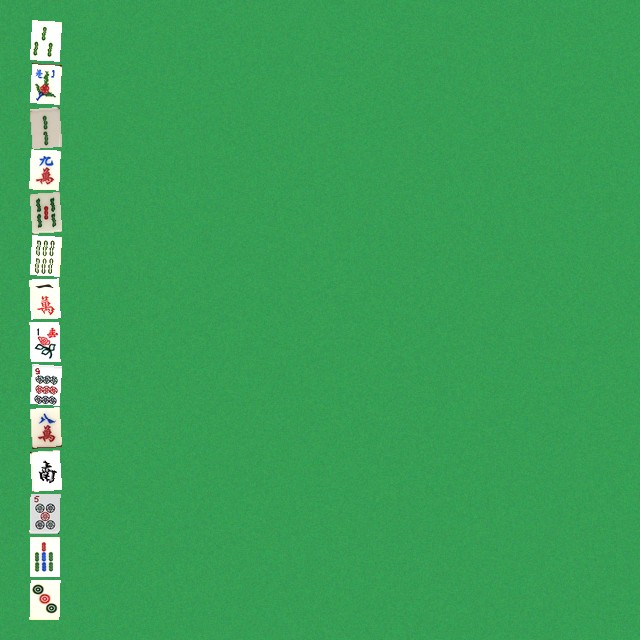tile: (29, 20, 59, 60), (29, 63, 59, 103), (29, 106, 59, 146), (29, 149, 59, 189), (29, 192, 59, 232), (29, 235, 59, 275), (29, 278, 59, 318), (29, 321, 59, 361), (29, 364, 59, 404), (29, 407, 59, 447), (29, 450, 59, 490), (29, 493, 59, 533), (29, 536, 59, 576), (29, 579, 59, 619)
